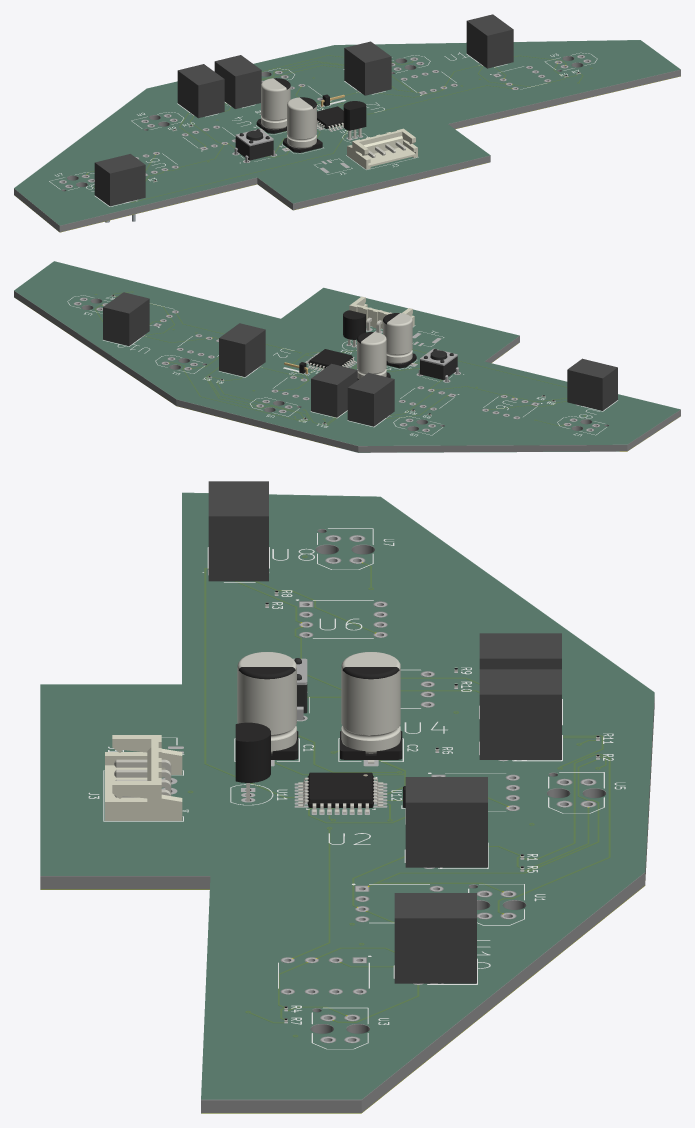
Rendered from line-follower-sensor-array-initial.glb.
3 renders of one model, top to bottom at view 1: azimuth 30°, elevation 25°; view 2: azimuth 150°, elevation 25°; view 3: azimuth 270°, elevation 25°, orthographic. The views are drawn at different scales.
Parts seen in each view (by area): view 1: =>[0:1:1:15], =>[0:1:1:14], =>[0:1:1:2] (×5), J3, C1, C2, =>[0:1:1:13], =>[0:1:1:11], SW1, U11, U12, =>[0:1:1:10]; view 2: =>[0:1:1:15], =>[0:1:1:14], =>[0:1:1:2] (×5), C1, =>[0:1:1:13], =>[0:1:1:11], C2, SW1, J3, U12, U11; view 3: =>[0:1:1:14], =>[0:1:1:15], =>[0:1:1:2] (×5), C2, J3, C1, =>[0:1:1:11], =>[0:1:1:13], U12, =>[0:1:1:10], U11.
Boxes of the visible parts, left/top/right/bottom form: =>[0:1:1:15]: left=14, top=41, right=680, bottom=232; =>[0:1:1:14]: left=14, top=40, right=680, bottom=225; =>[0:1:1:2] (×5): left=94, top=14, right=513, bottom=206; J3: left=347, top=128, right=417, bottom=169; C1: left=283, top=97, right=322, bottom=152; C2: left=256, top=78, right=290, bottom=133; =>[0:1:1:13]: left=49, top=52, right=597, bottom=206; =>[0:1:1:11]: left=59, top=55, right=590, bottom=201; SW1: left=234, top=129, right=274, bottom=162; U11: left=343, top=101, right=366, bottom=139; U12: left=317, top=106, right=343, bottom=130; =>[0:1:1:10]: left=15, top=63, right=680, bottom=232; =>[0:1:1:15]: left=14, top=262, right=680, bottom=452; =>[0:1:1:14]: left=14, top=261, right=680, bottom=452; =>[0:1:1:2] (×5): left=103, top=292, right=617, bottom=426; C1: left=383, top=313, right=416, bottom=368; =>[0:1:1:13]: left=67, top=295, right=617, bottom=436; =>[0:1:1:11]: left=74, top=295, right=599, bottom=431; C2: left=357, top=332, right=390, bottom=379; SW1: left=418, top=348, right=458, bottom=381; J3: left=349, top=296, right=414, bottom=332; U12: left=305, top=349, right=356, bottom=370; U11: left=343, top=310, right=365, bottom=346; =>[0:1:1:14]: left=40, top=492, right=654, bottom=1113; =>[0:1:1:15]: left=40, top=493, right=654, bottom=1112; =>[0:1:1:2] (×5): left=208, top=481, right=561, bottom=983; C2: left=340, top=652, right=402, bottom=763; J3: left=105, top=735, right=182, bottom=820; C1: left=237, top=652, right=298, bottom=759; =>[0:1:1:11]: left=161, top=535, right=599, bottom=1043; =>[0:1:1:13]: left=88, top=528, right=625, bottom=1049; U12: left=298, top=772, right=383, bottom=813; =>[0:1:1:10]: left=41, top=556, right=644, bottom=1113; U11: left=235, top=722, right=270, bottom=801.
Size of the model in its own units: 0.152 by 0.0149 by 0.065.
